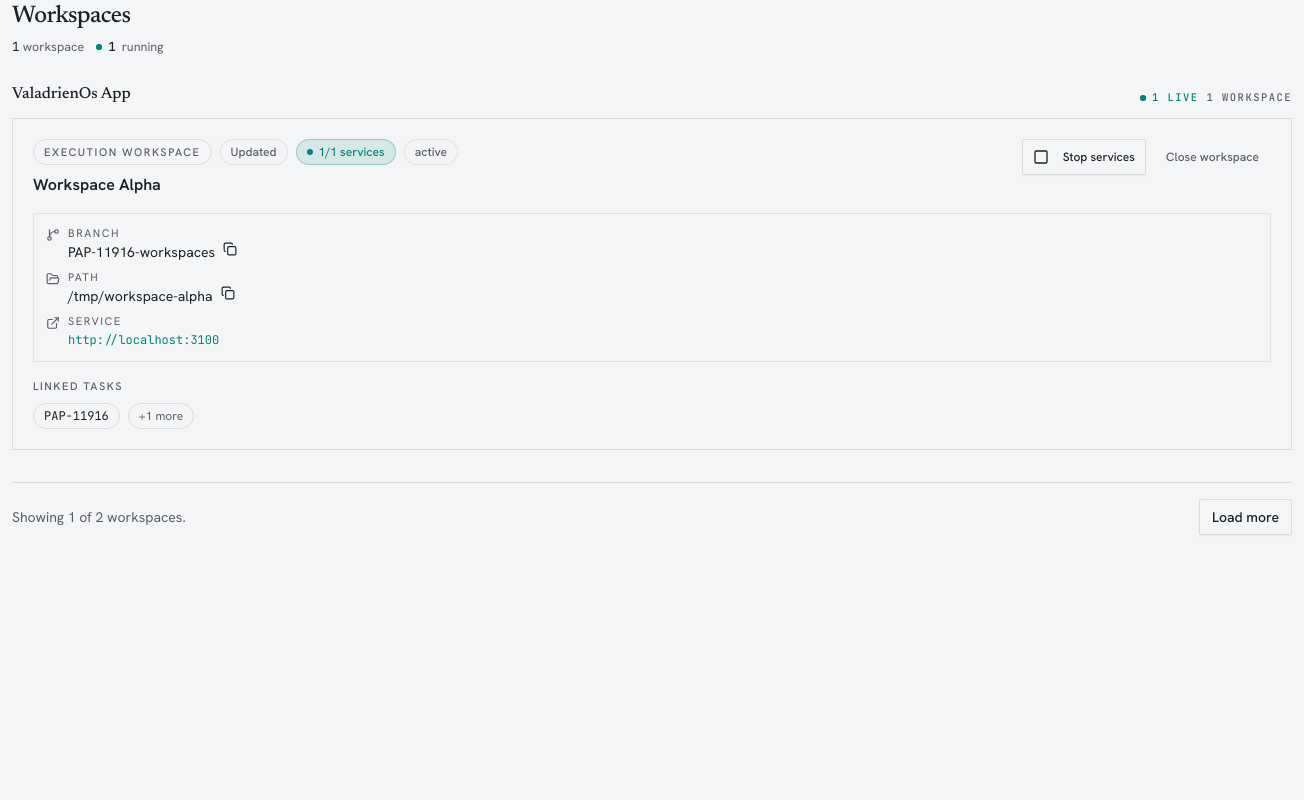
Workspaces › uses the bounded overview endpoint and renders grouped workspace cards with linked task summaries
Check: the link to "/projects/valadrien-os-app/workspaces" is shown, box [12,86,131,102]
What coordinates should you click on to do the following:
click the button "Load more"
I would click on:
 (1246, 517)
Its box is [1199,499,1292,535].
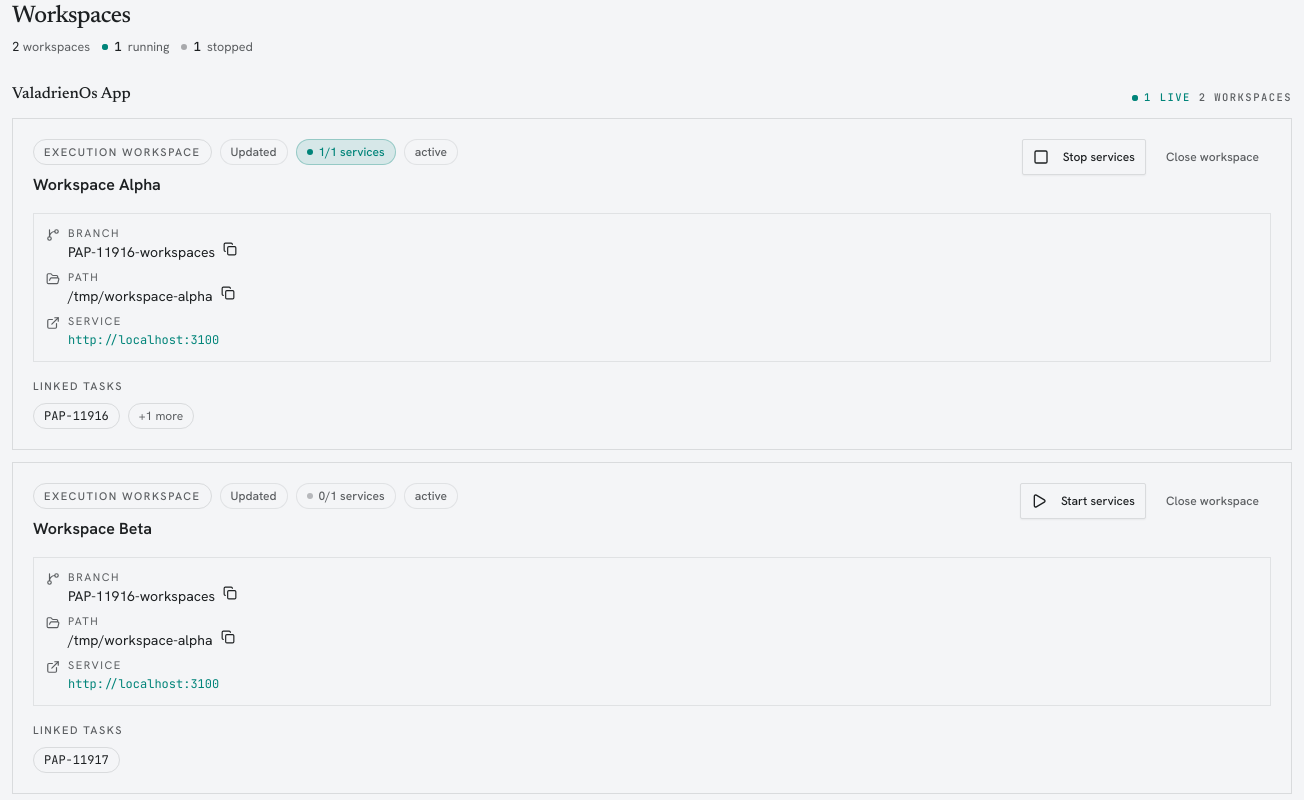
Check: the text "Workspace Beta" is shown, box [33,518,152,539]
Check: the text "PAP-11917" is shown, box [33,747,120,773]
